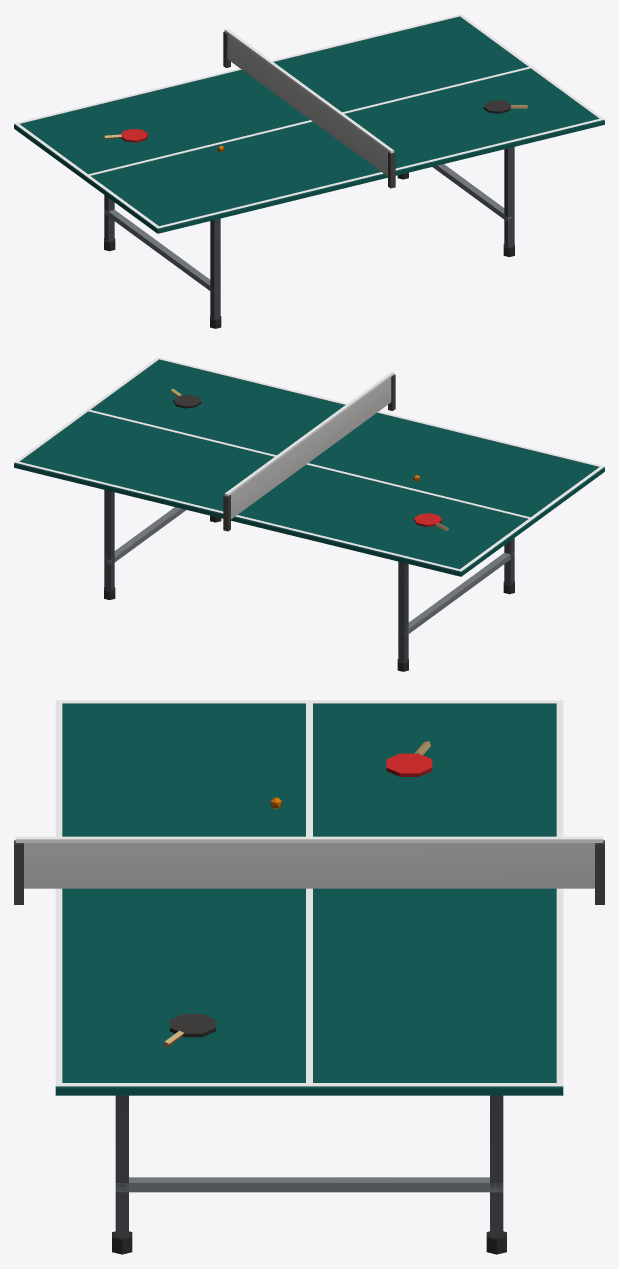
The model's file is table_pingpong_01.glb.
3 renders of one model, top to bottom at view 1: azimuth 30°, elevation 25°; view 2: azimuth 150°, elevation 25°; view 3: azimuth 270°, elevation 25°, orthographic. The views are drawn at different scales.
Parts seen in each view (by area): view 1: table_pingpong_01_mesh; view 2: table_pingpong_01_mesh; view 3: table_pingpong_01_mesh.
Part boxes in pixels (bbox=[...]): table_pingpong_01_mesh: bbox=[14, 14, 604, 328]; table_pingpong_01_mesh: bbox=[14, 357, 604, 671]; table_pingpong_01_mesh: bbox=[14, 700, 604, 1254].
Size of the model in its own units: 2.74 by 0.9447 by 1.77.
Materials: 1 (1 with a texture image).
